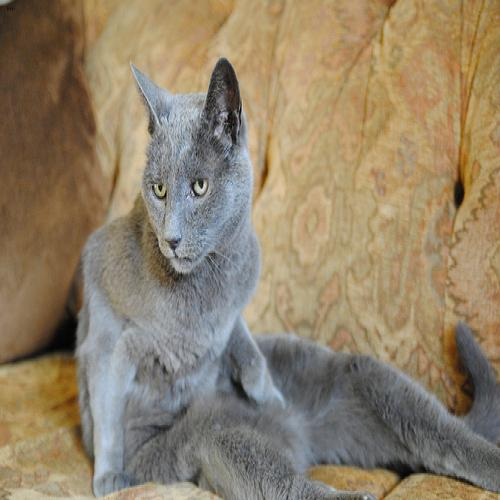rblue: (128, 58, 253, 274)
